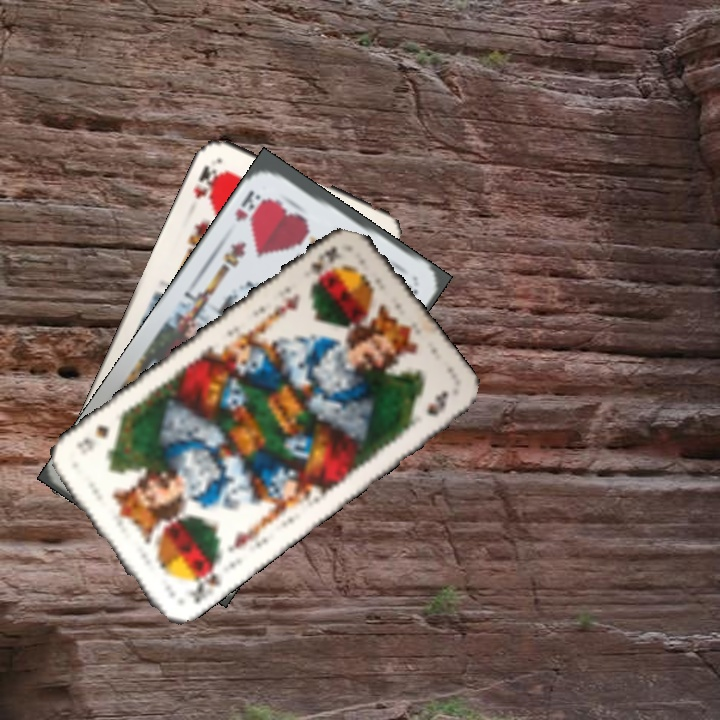HK: (189, 161, 224, 202), (231, 185, 263, 225)
SK: (300, 242, 343, 288), (186, 558, 225, 607)
